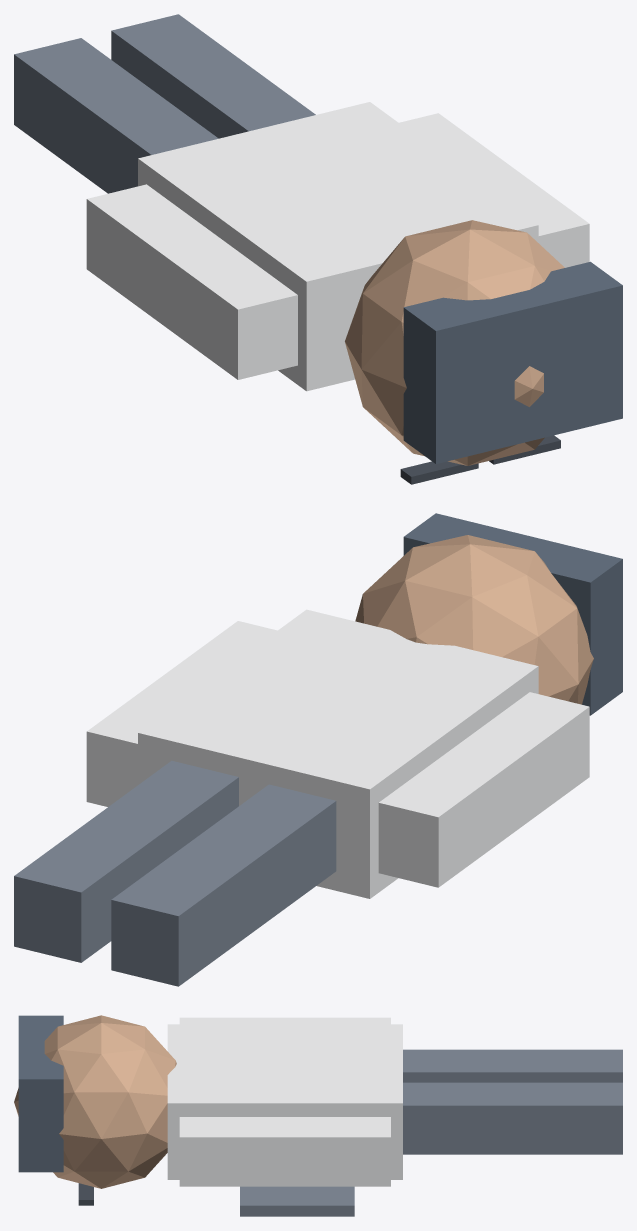
Rendered from researcher.glb.
3 renders of one model, top to bottom at view 1: azimuth 30°, elevation 25°; view 2: azimuth 150°, elevation 25°; view 3: azimuth 270°, elevation 25°, orthographic. The views are drawn at different scales.
Parts seen in each view (by area): view 1: labcoat, hair, arm_l, head, leg_l, leg_r, arm_r, glasses_l; view 2: labcoat, leg_l, arm_l, head, leg_r, hair, arm_r; view 3: labcoat, head, leg_r, arm_r, leg_l, hair, tablet, arm_l, glasses_r.
Part boxes in pixels (left/top/right/bottom): labcoat: left=138, top=102, right=538, bottom=391; hair: left=403, top=261, right=622, bottom=463; arm_l: left=86, top=184, right=297, bottom=379; head: left=345, top=220, right=564, bottom=465; leg_l: left=14, top=38, right=218, bottom=193; leg_r: left=111, top=14, right=315, bottom=138; arm_r: left=399, top=113, right=589, bottom=267; glasses_l: left=400, top=461, right=478, bottom=484; labcoat: left=138, top=609, right=538, bottom=898; leg_l: left=111, top=784, right=336, bottom=986; arm_l: left=378, top=692, right=589, bottom=887; head: left=355, top=535, right=593, bottom=704; leg_r: left=14, top=760, right=238, bottom=962; hair: left=403, top=513, right=622, bottom=715; arm_r: left=86, top=621, right=277, bottom=806; labcoat: left=167, top=1024, right=402, bottom=1179; head: left=14, top=1015, right=176, bottom=1188; leg_r: left=403, top=1082, right=622, bottom=1154; arm_r: left=179, top=1117, right=390, bottom=1186; leg_l: left=403, top=1049, right=622, bottom=1082; hair: left=18, top=1015, right=63, bottom=1172; tablet: left=240, top=1186, right=354, bottom=1216; arm_l: left=179, top=1017, right=390, bottom=1024; glasses_r: left=78, top=1183, right=93, bottom=1205.
Bounding box in the file's own units: 0.94 × 0.58 × 2.02.
